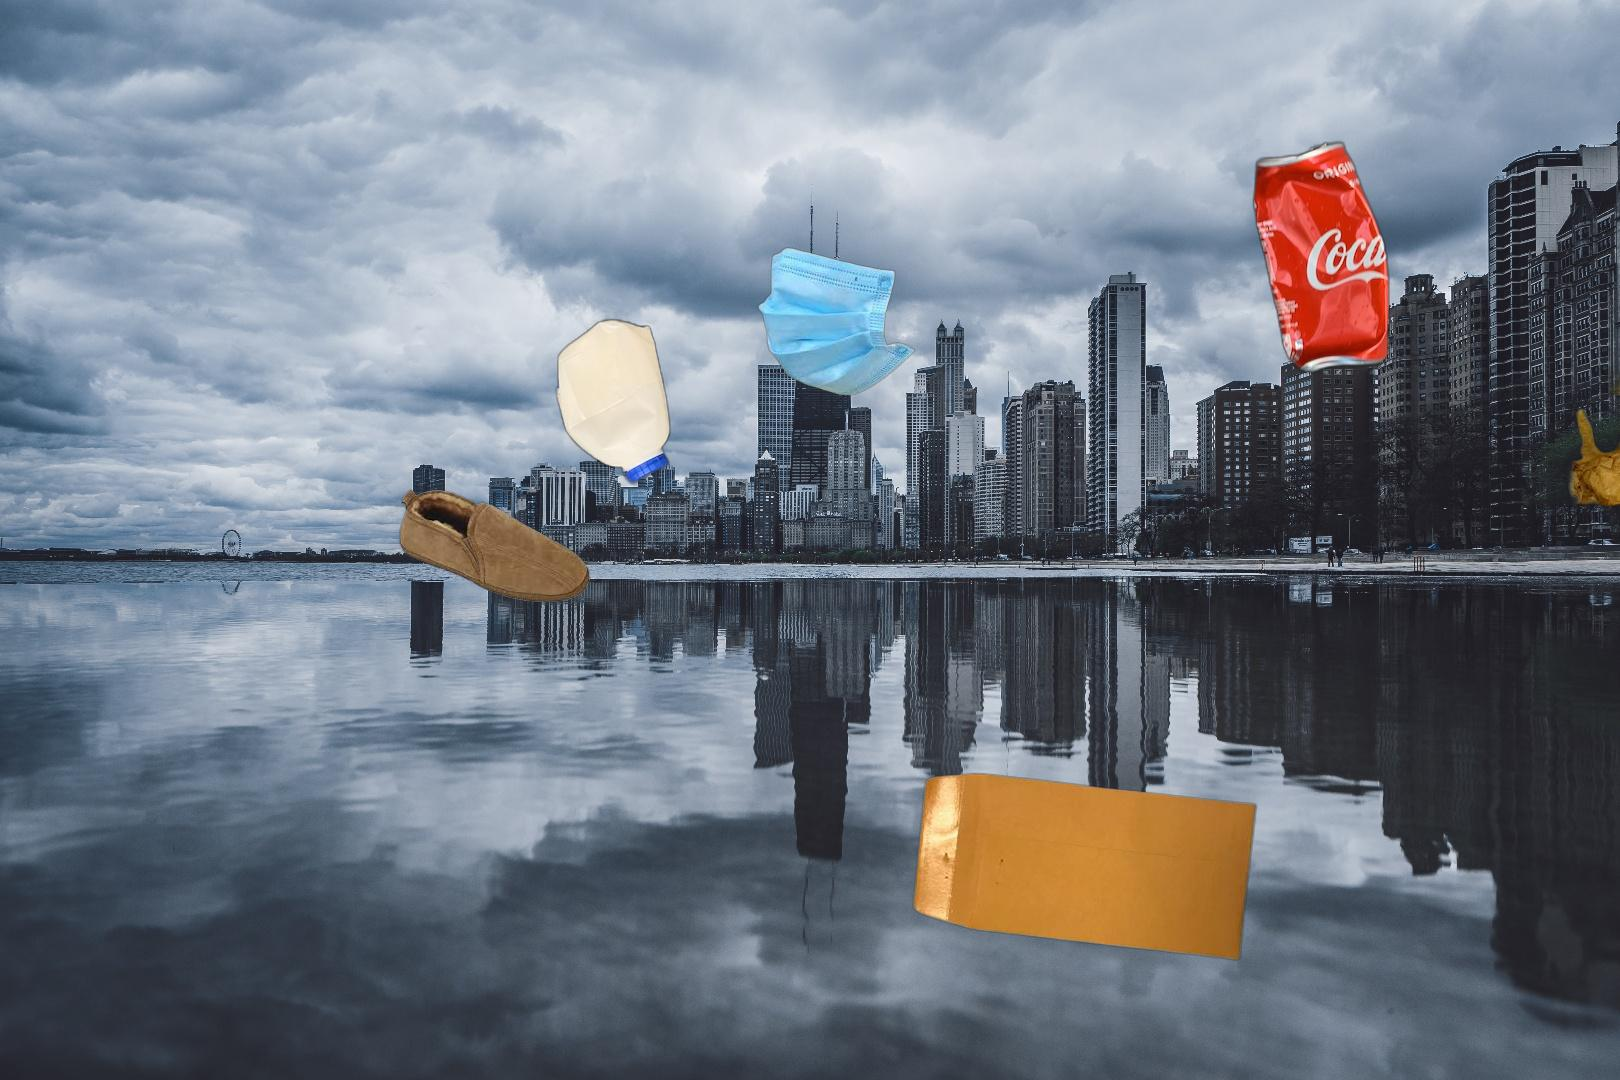biological: (1571, 4, 1620, 276)
metal-cans: (1249, 136, 1395, 378)
paper: (908, 770, 1261, 964)
plastic-bottles: (551, 313, 675, 489)
shoes: (397, 487, 593, 605)
trash: (755, 245, 918, 398), (1531, 348, 1620, 607)
